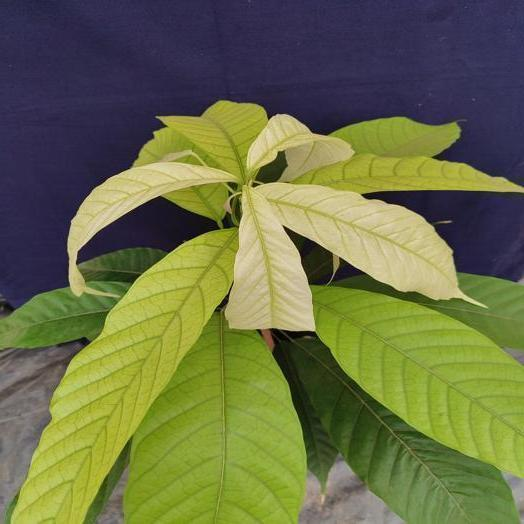Healthy Leaf: (283, 339, 519, 522), (336, 273, 523, 350), (276, 343, 337, 494), (0, 281, 129, 349), (79, 248, 165, 281)
Iron: (14, 229, 237, 523), (313, 287, 523, 474), (124, 314, 306, 523), (255, 183, 481, 304), (67, 162, 233, 295), (225, 186, 312, 330), (293, 154, 523, 193), (158, 100, 267, 181), (248, 114, 353, 180), (331, 117, 460, 156), (133, 127, 228, 169), (165, 186, 225, 221)
